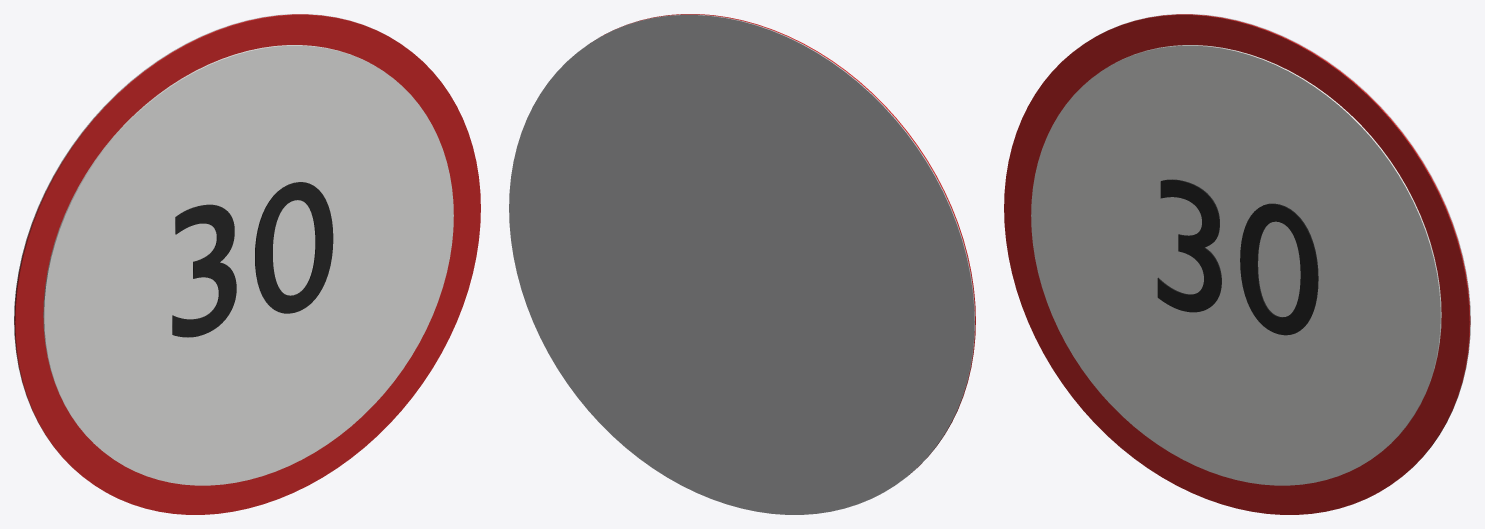
3 renders of one model, left to right at view 1: azimuth 30°, elevation 25°; view 2: azimuth 150°, elevation 25°; view 3: azimuth 330°, elevation 25°, orthographic.
Visible parts, largest first — view 1: B14_30_fond, B14_30_bord, B14_30_picto0, B14_30_dos; view 2: B14_30_dos, B14_30_bord; view 3: B14_30_fond, B14_30_bord, B14_30_picto0, B14_30_dos.
Boxes of the visible parts, x1,y1,x2,y2 form: B14_30_fond: (43,45,453,485); B14_30_bord: (14,14,480,514); B14_30_picto0: (172,182,333,337); B14_30_dos: (14,14,385,474); B14_30_dos: (509,14,974,514); B14_30_bord: (601,14,975,474); B14_30_fond: (1031,45,1441,485); B14_30_bord: (1004,14,1470,514); B14_30_picto0: (1157,179,1318,335); B14_30_dos: (1099,14,1470,474).
Bounding box in the file's own units: 0.65 × 0.65 × 0.0083.
